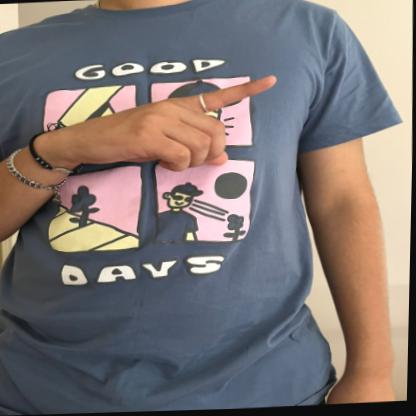S: (48, 73, 279, 177)
